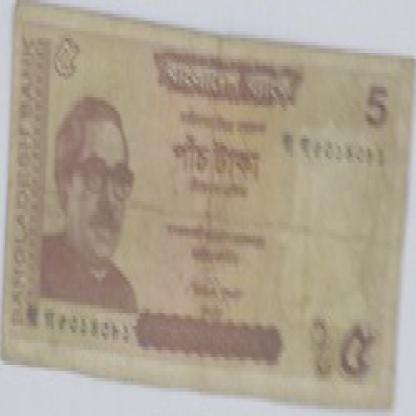Five Taka: (166, 124, 264, 198), (334, 316, 379, 395), (48, 17, 83, 97), (363, 76, 394, 139)
